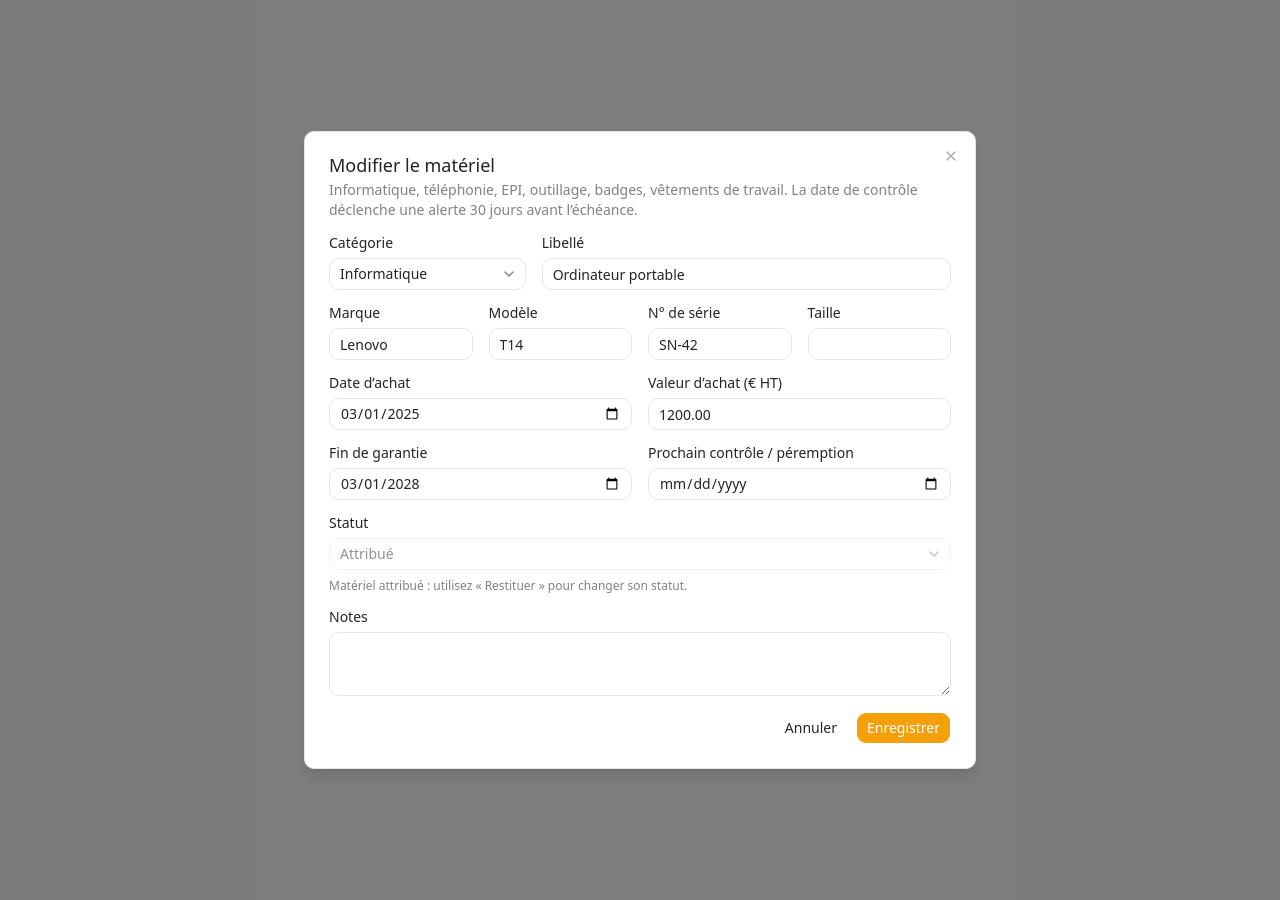
Scenario: MaterielDialog › affiche l’erreur d’unicité du numéro de série
Click the button "Enregistrer" at (904, 728), box [856, 712, 951, 744]
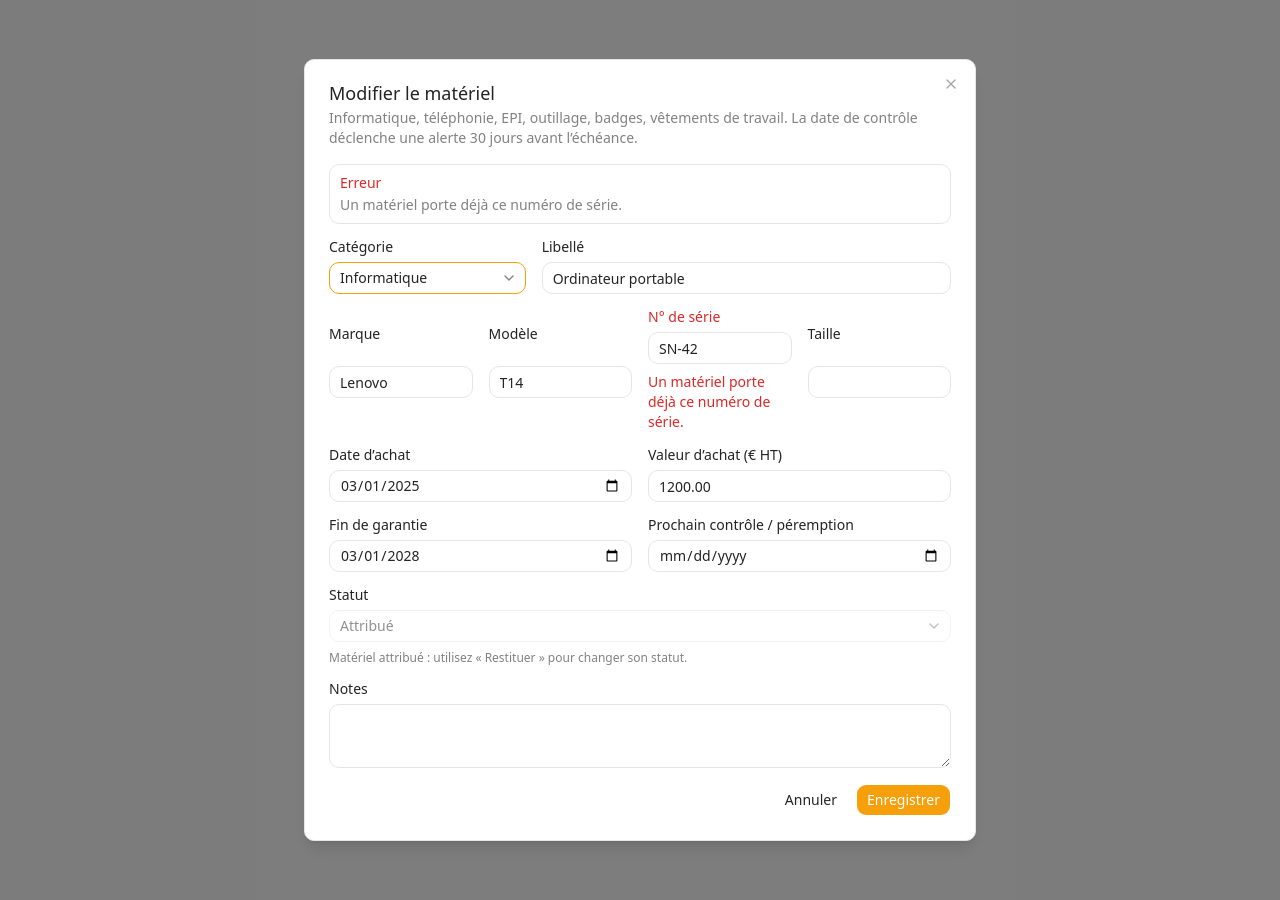
Now the text "Un matériel porte déjà ce numéro de série." is shown 2 times, box [340, 195, 622, 214]; [648, 372, 792, 432]
